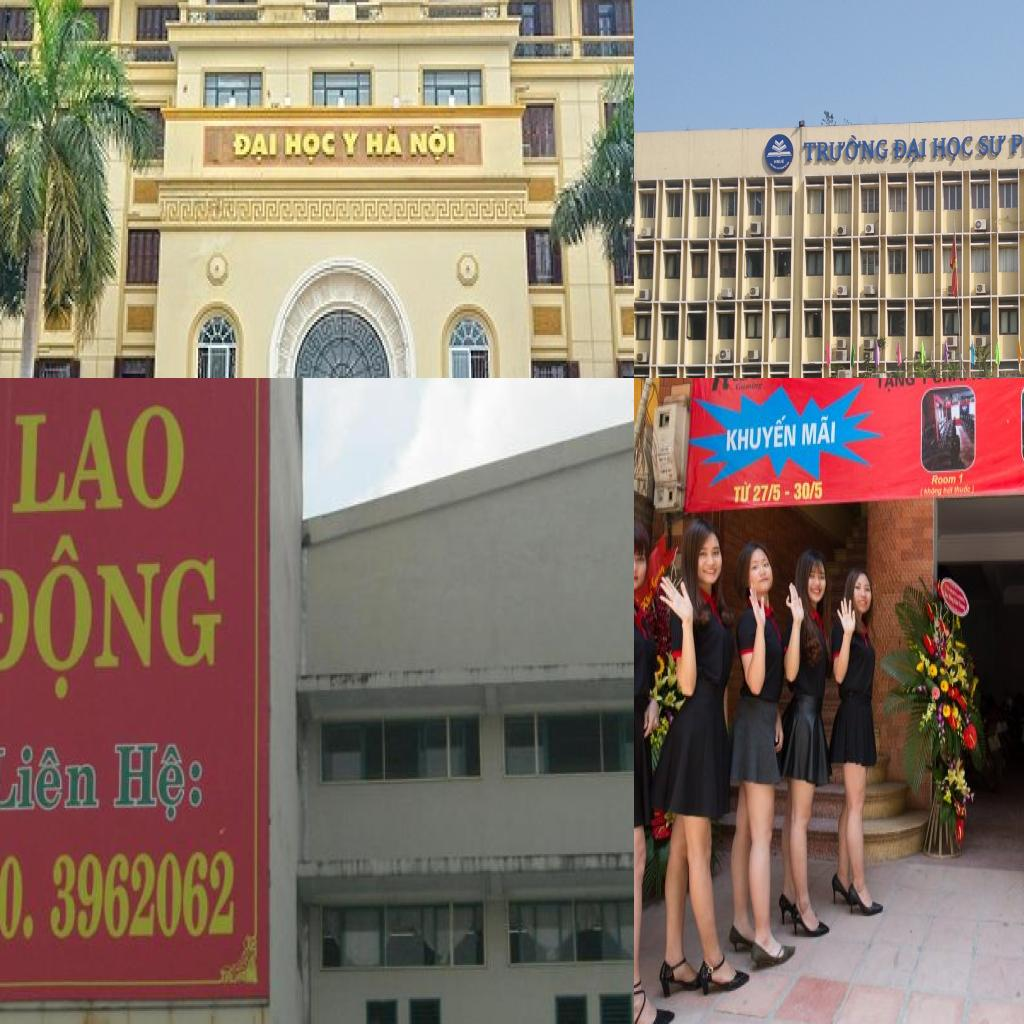text: (0, 526, 222, 708), (4, 400, 192, 519), (105, 734, 202, 825), (0, 736, 101, 814), (0, 852, 39, 946), (724, 414, 799, 456), (280, 126, 339, 167), (803, 134, 888, 162), (230, 126, 280, 167), (362, 123, 408, 165), (801, 416, 838, 448), (932, 134, 974, 160), (891, 136, 928, 163), (342, 126, 364, 165), (978, 132, 1008, 159), (793, 480, 826, 504), (876, 378, 917, 395), (752, 483, 782, 504), (734, 480, 753, 505), (1010, 130, 1024, 159), (710, 378, 735, 392), (953, 484, 977, 498), (930, 476, 957, 488), (919, 486, 943, 499), (932, 378, 969, 386), (732, 378, 771, 383), (958, 472, 965, 486), (920, 378, 927, 388), (774, 159, 784, 164), (779, 165, 785, 170), (786, 160, 790, 166), (773, 165, 777, 169), (770, 162, 773, 167), (784, 164, 787, 168), (777, 166, 779, 170)
